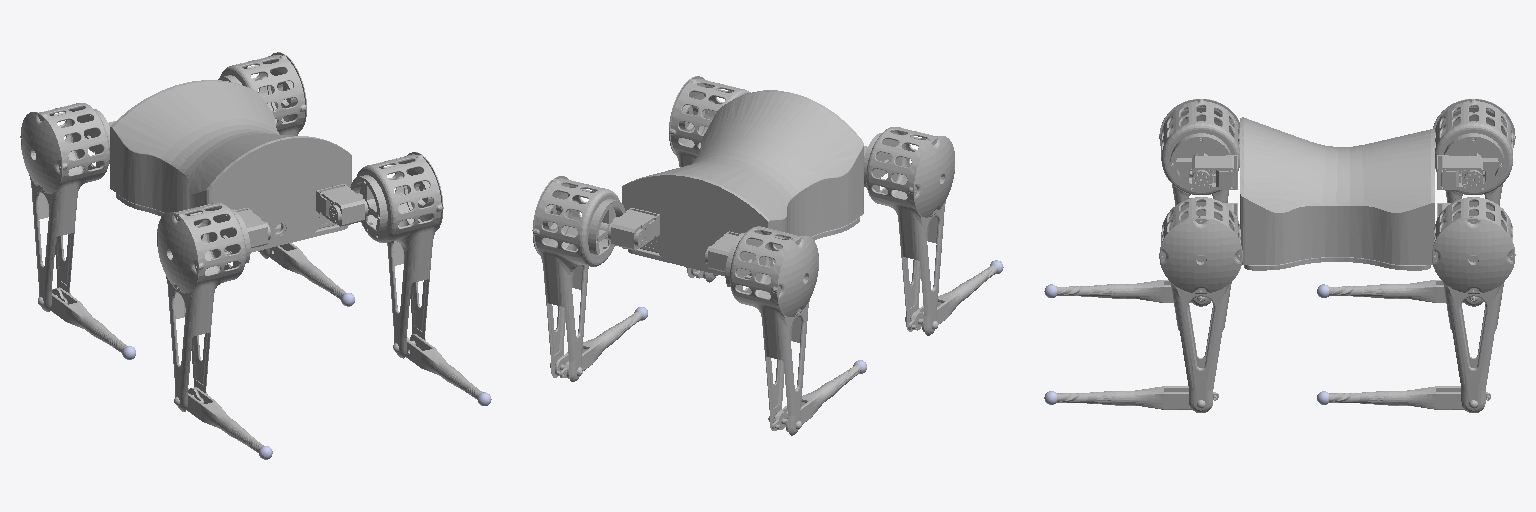
The robot description file, URDF, robot "Phantom":
<?xml version="1.0" encoding="utf-8"?>
<!-- This URDF was automatically created by SolidWorks to URDF Exporter! Originally created by [author] ([email redacted]) 
     Commit Version: 1.5.1-0-g916b5db  Build Version: 1.5.7152.31018
     For more information, please see http://wiki.ros.org/sw_urdf_exporter -->
<robot
  name="Phantom">
  <link
    name="base_link">
    <inertial>
      <origin
        xyz="0 0.024688 0"
        rpy="0 0 0" />
      <mass
        value="0.50654" />
      <inertia
        ixx="0.0017719"
        ixy="1.6105E-07"
        ixz="-8.064E-07"
        iyy="0.0025693"
        iyz="-4.4001E-05"
        izz="0.0011851" />
    </inertial>
    <visual>
      <origin
        xyz="0 0 0"
        rpy="0 0 0" />
      <geometry>
        <mesh
          filename="package://Phantom/meshes/base_link.STL" />
      </geometry>
      <material
        name="">
        <color
          rgba="0.75294 0.75294 0.75294 1" />
      </material>
    </visual>
    <collision>
      <origin
        xyz="0 0 0"
        rpy="0 0 0" />
      <geometry>
        <mesh
          filename="package://Phantom/meshes/base_link.STL" />
      </geometry>
    </collision>
  </link>
  <link
    name="FL_Motor_2">
    <inertial>
      <origin
        xyz="9.012E-07 0.025811 0.00021934"
        rpy="0 0 0" />
      <mass
        value="0.038306" />
      <inertia
        ixx="8.8892E-06"
        ixy="-8.9901E-11"
        ixz="2.9471E-11"
        iyy="5.0029E-06"
        iyz="-6.1827E-09"
        izz="7.6904E-06" />
    </inertial>
    <visual>
      <origin
        xyz="0 0 0"
        rpy="0 0 0" />
      <geometry>
        <mesh
          filename="package://Phantom/meshes/FL_Motor_2.STL" />
      </geometry>
      <material
        name="">
        <color
          rgba="0.75294 0.75294 0.75294 1" />
      </material>
    </visual>
    <collision>
      <origin
        xyz="0 0 0"
        rpy="0 0 0" />
      <geometry>
        <mesh
          filename="package://Phantom/meshes/FL_Motor_2.STL" />
      </geometry>
    </collision>
  </link>
  <joint
    name="FL_Motor_1"
    type="revolute">
    <origin
      xyz="0.06 -0.106 0.0396"
      rpy="3.14159 -1.5708 0" />
    <parent
      link="base_link" />
    <child
      link="FL_Motor_2" />
    <axis
      xyz="0 1 0" />
    <limit
      lower="-1.57"
      upper="1.57"
      effort="1.6"
      velocity="6.55" />
  </joint>
  <link
    name="FL_Upper_Leg">
    <inertial>
      <origin
        xyz="0.0524807185071959 -0.0149043297355802 0.0456863302589959"
        rpy="0 0 0" />
      <mass
        value="0.109481468712912" />
      <inertia
        ixx="0.000298068457356141"
        ixy="4.60867940853905E-05"
        ixz="-3.85596458595883E-06"
        iyy="0.000125014667087998"
        iyz="7.78430032608335E-05"
        izz="0.000265806457751462" />
    </inertial>
    <visual>
      <origin
        xyz="0 0 0"
        rpy="0 0 0" />
      <geometry>
        <mesh
          filename="package://Phantom/meshes/FL_Upper_Leg.STL" />
      </geometry>
      <material
        name="">
        <color
          rgba="0.752941176470588 0.752941176470588 0.752941176470588 1" />
      </material>
    </visual>
    <collision>
      <origin
        xyz="0 0 0"
        rpy="0 0 0" />
      <geometry>
        <mesh
          filename="package://Phantom/meshes/FL_Upper_Leg.STL" />
      </geometry>
    </collision>
  </link>
  <joint
    name="FL_Motor_2"
    type="revolute">
    <origin
      xyz="0 0.0396 0"
      rpy="0.40064 -0.90551 -1.6929" />
    <parent
      link="FL_Motor_2" />
    <child
      link="FL_Upper_Leg" />
    <axis
      xyz="0.78674 0.24074 0.5684" />
    <limit
      lower="-1.57"
      upper="1.57"
      effort="1.6"
      velocity="6.55" />
  </joint>
  <link
    name="FL_Lower_Leg">
    <inertial>
      <origin
        xyz="0.0261394692100626 -0.0573467070566691 0.0104588260023856"
        rpy="0 0 0" />
      <mass
        value="0.0232960712336725" />
      <inertia
        ixx="1.52233611319829E-05"
        ixy="1.16167374959236E-06"
        ixz="-2.08623801817281E-07"
        iyy="1.7871148944761E-06"
        iyz="2.42971146104759E-06"
        izz="1.50217948778946E-05" />
    </inertial>
    <visual>
      <origin
        xyz="0 0 0"
        rpy="0 0 0" />
      <geometry>
        <mesh
          filename="package://Phantom/meshes/FL_Lower_Leg.STL" />
      </geometry>
      <material
        name="">
        <color
          rgba="0.752941176470588 0.752941176470588 0.752941176470588 1" />
      </material>
    </visual>
    <collision>
      <origin
        xyz="0 0 0"
        rpy="0 0 0" />
      <geometry>
        <mesh
          filename="package://Phantom/meshes/FL_Lower_Leg.STL" />
      </geometry>
    </collision>
  </link>
  <joint
    name="FL_Motor_3"
    type="revolute">
    <origin
      xyz="0.054695 -0.15377 0.082305"
      rpy="-1.778 -0.67517 0.31496" />
    <parent
      link="FL_Upper_Leg" />
    <child
      link="FL_Lower_Leg" />
    <axis
      xyz="0.9974 0.072007 0" />
    <limit
      lower="-1"
      upper="1"
      effort="1.6"
      velocity="6.55" />
  </joint>
  <link
    name="FL_Foot">
    <inertial>
      <origin
        xyz="-1.43877699615436E-08 0.00686484405727211 -2.77555756156289E-17"
        rpy="0 0 0" />
      <mass
        value="0.00129233386377228" />
      <inertia
        ixx="2.80098247181732E-08"
        ixy="-8.19106279544417E-14"
        ixz="-2.31601914376966E-23"
        iyy="3.46211587846662E-08"
        iyz="6.90000589927413E-24"
        izz="2.80108403065588E-08" />
    </inertial>
    <visual>
      <origin
        xyz="0 0 0"
        rpy="0 0 0" />
      <geometry>
        <mesh
          filename="package://Phantom/meshes/FL_Foot.STL" />
      </geometry>
      <material
        name="">
        <color
          rgba="0.792156862745098 0.819607843137255 0.933333333333333 1" />
      </material>
    </visual>
    <collision>
      <origin
        xyz="0 0 0"
        rpy="0 0 0" />
      <geometry>
        <mesh
          filename="package://Phantom/meshes/FL_Foot.STL" />
      </geometry>
    </collision>
  </link>
  <joint
    name="FL_Foot_Joint"
    type="fixed">
    <origin
      xyz="0.033045 -0.15002 0.026918"
      rpy="0.42172 1.1307 -2.6839" />
    <parent
      link="FL_Lower_Leg" />
    <child
      link="FL_Foot" />
    <axis
      xyz="0 0 0" />
  </joint>
  <link
    name="FR_Motor_2">
    <inertial>
      <origin
        xyz="9.01196952313166E-07 0.0258106475147315 0.000219339271449077"
        rpy="0 0 0" />
      <mass
        value="0.0383058924829272" />
      <inertia
        ixx="8.8892013763251E-06"
        ixy="-8.9900828311236E-11"
        ixz="2.94712337558651E-11"
        iyy="5.00287526627567E-06"
        iyz="-6.18267002550534E-09"
        izz="7.69036723458956E-06" />
    </inertial>
    <visual>
      <origin
        xyz="0 0 0"
        rpy="0 0 0" />
      <geometry>
        <mesh
          filename="package://Phantom/meshes/FR_Motor_2.STL" />
      </geometry>
      <material
        name="">
        <color
          rgba="0.752941176470588 0.752941176470588 0.752941176470588 1" />
      </material>
    </visual>
    <collision>
      <origin
        xyz="0 0 0"
        rpy="0 0 0" />
      <geometry>
        <mesh
          filename="package://Phantom/meshes/FR_Motor_2.STL" />
      </geometry>
    </collision>
  </link>
  <joint
    name="FR_Motor_1"
    type="revolute">
    <origin
      xyz="-0.06 -0.106 0.0396"
      rpy="3.1416 1.5708 0" />
    <parent
      link="base_link" />
    <child
      link="FR_Motor_2" />
    <axis
      xyz="0 1 0" />
    <limit
      lower="-1.57"
      upper="1.57"
      effort="1.6"
      velocity="6.55" />
  </joint>
  <link
    name="FR_Upper_Leg">
    <inertial>
      <origin
        xyz="0.052480718507193 -0.0149043297355734 0.0456863302590011"
        rpy="0 0 0" />
      <mass
        value="0.109481468712911" />
      <inertia
        ixx="0.000298068457356142"
        ixy="4.60867940853844E-05"
        ixz="-3.8559645859582E-06"
        iyy="0.000125014667088"
        iyz="7.78430032608387E-05"
        izz="0.000265806457751455" />
    </inertial>
    <visual>
      <origin
        xyz="0 0 0"
        rpy="0 0 0" />
      <geometry>
        <mesh
          filename="package://Phantom/meshes/FR_Upper_Leg.STL" />
      </geometry>
      <material
        name="">
        <color
          rgba="0.752941176470588 0.752941176470588 0.752941176470588 1" />
      </material>
    </visual>
    <collision>
      <origin
        xyz="0 0 0"
        rpy="0 0 0" />
      <geometry>
        <mesh
          filename="package://Phantom/meshes/FR_Upper_Leg.STL" />
      </geometry>
    </collision>
  </link>
  <joint
    name="FR_Motor_2"
    type="revolute">
    <origin
      xyz="0 0.0396 0"
      rpy="0.40064 -0.90551 1.4487" />
    <parent
      link="FR_Motor_2" />
    <child
      link="FR_Upper_Leg" />
    <axis
      xyz="0.78674 0.24074 0.5684" />
    <limit
      lower="-1.57"
      upper="1.57"
      effort="1.6"
      velocity="6.55" />
  </joint>
  <link
    name="FR_Lower_Leg">
    <inertial>
      <origin
        xyz="0.0261394692100617 -0.0573467070566894 0.0104588260024016"
        rpy="0 0 0" />
      <mass
        value="0.0232960712337112" />
      <inertia
        ixx="1.52233611319807E-05"
        ixy="1.1616737495922E-06"
        ixz="-2.08623801817473E-07"
        iyy="1.78711489447468E-06"
        iyz="2.42971146104814E-06"
        izz="1.50217948778951E-05" />
    </inertial>
    <visual>
      <origin
        xyz="0 0 0"
        rpy="0 0 0" />
      <geometry>
        <mesh
          filename="package://Phantom/meshes/FR_Lower_Leg.STL" />
      </geometry>
      <material
        name="">
        <color
          rgba="0.752941176470588 0.752941176470588 0.752941176470588 1" />
      </material>
    </visual>
    <collision>
      <origin
        xyz="0 0 0"
        rpy="0 0 0" />
      <geometry>
        <mesh
          filename="package://Phantom/meshes/FR_Lower_Leg.STL" />
      </geometry>
    </collision>
  </link>
  <joint
    name="FR_Motor_3"
    type="revolute">
    <origin
      xyz="0.054695 -0.15377 0.082305"
      rpy="1.3831 -0.53381 0.28062" />
    <parent
      link="FR_Upper_Leg" />
    <child
      link="FR_Lower_Leg" />
    <axis
      xyz="0.9974 0.072007 0" />
    <limit
      lower="-1"
      upper="1"
      effort="1.6"
      velocity="6.55" />
  </joint>
  <link
    name="FR_Foot">
    <inertial>
      <origin
        xyz="-1.43877682406979E-08 0.00686484405727189 -2.91433543964104E-15"
        rpy="0 0 0" />
      <mass
        value="0.00129233386377229" />
      <inertia
        ixx="2.80098247181733E-08"
        ixy="-8.1910627847285E-14"
        ixz="2.27474668452083E-24"
        iyy="3.46211587846663E-08"
        iyz="8.41167116402596E-24"
        izz="2.80108403065589E-08" />
    </inertial>
    <visual>
      <origin
        xyz="0 0 0"
        rpy="0 0 0" />
      <geometry>
        <mesh
          filename="package://Phantom/meshes/FR_Foot.STL" />
      </geometry>
      <material
        name="">
        <color
          rgba="0.792156862745098 0.819607843137255 0.933333333333333 1" />
      </material>
    </visual>
    <collision>
      <origin
        xyz="0 0 0"
        rpy="0 0 0" />
      <geometry>
        <mesh
          filename="package://Phantom/meshes/FR_Foot.STL" />
      </geometry>
    </collision>
  </link>
  <joint
    name="FR_Foot_Joint"
    type="fixed">
    <origin
      xyz="0.033045 -0.15002 0.026918"
      rpy="2.9657 0.081336 0.057634" />
    <parent
      link="FR_Lower_Leg" />
    <child
      link="FR_Foot" />
    <axis
      xyz="0 0 0" />
  </joint>
  <link
    name="BL_Motor_2">
    <inertial>
      <origin
        xyz="9.01196952167449E-07 0.0258106475147312 0.000219339271229357"
        rpy="0 0 0" />
      <mass
        value="0.0383058924829273" />
      <inertia
        ixx="8.88920137632515E-06"
        ixy="-8.99008282886945E-11"
        ixz="2.94712337531726E-11"
        iyy="5.00287526627569E-06"
        iyz="-6.1826700255098E-09"
        izz="7.69036723458962E-06" />
    </inertial>
    <visual>
      <origin
        xyz="0 0 0"
        rpy="0 0 0" />
      <geometry>
        <mesh
          filename="package://Phantom/meshes/BL_Motor_2.STL" />
      </geometry>
      <material
        name="">
        <color
          rgba="0.752941176470588 0.752941176470588 0.752941176470588 1" />
      </material>
    </visual>
    <collision>
      <origin
        xyz="0 0 0"
        rpy="0 0 0" />
      <geometry>
        <mesh
          filename="package://Phantom/meshes/BL_Motor_2.STL" />
      </geometry>
    </collision>
  </link>
  <joint
    name="BL_Motor_1"
    type="revolute">
    <origin
      xyz="0.06 0.106 0.0396"
      rpy="0 1.5708 0" />
    <parent
      link="base_link" />
    <child
      link="BL_Motor_2" />
    <axis
      xyz="0 1 0" />
    <limit
      lower="-1.57"
      upper="1.57"
      effort="1.6"
      velocity="6.55" />
  </joint>
  <link
    name="BL_Upper_Leg">
    <inertial>
      <origin
        xyz="0.0524807185070219 -0.014904329735632 0.0456863302588721"
        rpy="0 0 0" />
      <mass
        value="0.109481468712912" />
      <inertia
        ixx="0.000298068457356145"
        ixy="4.60867940853866E-05"
        ixz="-3.8559645859584E-06"
        iyy="0.000125014667088"
        iyz="7.78430032608382E-05"
        izz="0.000265806457751459" />
    </inertial>
    <visual>
      <origin
        xyz="0 0 0"
        rpy="0 0 0" />
      <geometry>
        <mesh
          filename="package://Phantom/meshes/BL_Upper_Leg.STL" />
      </geometry>
      <material
        name="">
        <color
          rgba="0.752941176470588 0.752941176470588 0.752941176470588 1" />
      </material>
    </visual>
    <collision>
      <origin
        xyz="0 0 0"
        rpy="0 0 0" />
      <geometry>
        <mesh
          filename="package://Phantom/meshes/BL_Upper_Leg.STL" />
      </geometry>
    </collision>
  </link>
  <joint
    name="BL_Motor_2"
    type="revolute">
    <origin
      xyz="0 0.0396 0"
      rpy="0.40064 -0.90551 1.4487" />
    <parent
      link="BL_Motor_2" />
    <child
      link="BL_Upper_Leg" />
    <axis
      xyz="0.78674 0.24074 0.5684" />
    <limit
      lower="-1.57"
      upper="1.57"
      effort="1.6"
      velocity="6.55" />
  </joint>
  <link
    name="BL_Lower_Leg">
    <inertial>
      <origin
        xyz="0.0261394692100616 -0.0573467070566771 0.010458826002389"
        rpy="0 0 0" />
      <mass
        value="0.0232960712336856" />
      <inertia
        ixx="1.52233611319842E-05"
        ixy="1.16167374959205E-06"
        ixz="-2.08623801817332E-07"
        iyy="1.78711489447804E-06"
        iyz="2.42971146104767E-06"
        izz="1.50217948778954E-05" />
    </inertial>
    <visual>
      <origin
        xyz="0 0 0"
        rpy="0 0 0" />
      <geometry>
        <mesh
          filename="package://Phantom/meshes/BL_Lower_Leg.STL" />
      </geometry>
      <material
        name="">
        <color
          rgba="0.752941176470588 0.752941176470588 0.752941176470588 1" />
      </material>
    </visual>
    <collision>
      <origin
        xyz="0 0 0"
        rpy="0 0 0" />
      <geometry>
        <mesh
          filename="package://Phantom/meshes/BL_Lower_Leg.STL" />
      </geometry>
    </collision>
  </link>
  <joint
    name="BL_Motor_3"
    type="revolute">
    <origin
      xyz="0.054695 -0.15377 0.082305"
      rpy="-1.778 -0.67517 0.31496" />
    <parent
      link="BL_Upper_Leg" />
    <child
      link="BL_Lower_Leg" />
    <axis
      xyz="0.9974 0.072007 0" />
    <limit
      lower="-1"
      upper="1"
      effort="1.6"
      velocity="6.55" />
  </joint>
  <link
    name="BL_Foot">
    <inertial>
      <origin
        xyz="-1.43877698921546E-08 0.00686484405727179 2.77555756156289E-17"
        rpy="0 0 0" />
      <mass
        value="0.00129233386377229" />
      <inertia
        ixx="2.80098247181732E-08"
        ixy="-8.19106278465532E-14"
        ixz="-4.13579763320867E-24"
        iyy="3.46211587846662E-08"
        iyz="-4.48891407388988E-24"
        izz="2.80108403065589E-08" />
    </inertial>
    <visual>
      <origin
        xyz="0 0 0"
        rpy="0 0 0" />
      <geometry>
        <mesh
          filename="package://Phantom/meshes/BL_Foot.STL" />
      </geometry>
      <material
        name="">
        <color
          rgba="0.792156862745098 0.819607843137255 0.933333333333333 1" />
      </material>
    </visual>
    <collision>
      <origin
        xyz="0 0 0"
        rpy="0 0 0" />
      <geometry>
        <mesh
          filename="package://Phantom/meshes/BL_Foot.STL" />
      </geometry>
    </collision>
  </link>
  <joint
    name="BL_Foot_Joint"
    type="fixed">
    <origin
      xyz="0.033045 -0.15002 0.026918"
      rpy="0.44233 1.1512 -2.6613" />
    <parent
      link="BL_Lower_Leg" />
    <child
      link="BL_Foot" />
    <axis
      xyz="0 1 0" />
  </joint>
  <link
    name="BR_Motor_2">
    <inertial>
      <origin
        xyz="9.01196953048689E-07 0.0258106475147303 0.000219339271668104"
        rpy="0 0 0" />
      <mass
        value="0.0383058924829252" />
      <inertia
        ixx="8.88920137632514E-06"
        ixy="-8.9900828336558E-11"
        ixz="2.94712337510042E-11"
        iyy="5.00287526627568E-06"
        iyz="-6.18267002550552E-09"
        izz="7.69036723458959E-06" />
    </inertial>
    <visual>
      <origin
        xyz="0 0 0"
        rpy="0 0 0" />
      <geometry>
        <mesh
          filename="package://Phantom/meshes/BR_Motor_2.STL" />
      </geometry>
      <material
        name="">
        <color
          rgba="0.752941176470588 0.752941176470588 0.752941176470588 1" />
      </material>
    </visual>
    <collision>
      <origin
        xyz="0 0 0"
        rpy="0 0 0" />
      <geometry>
        <mesh
          filename="package://Phantom/meshes/BR_Motor_2.STL" />
      </geometry>
    </collision>
  </link>
  <joint
    name="BR_Motor_1"
    type="revolute">
    <origin
      xyz="-0.06 0.106 0.0396"
      rpy="0 -1.5708 0" />
    <parent
      link="base_link" />
    <child
      link="BR_Motor_2" />
    <axis
      xyz="0 1 0" />
    <limit
      lower="-1.57"
      upper="1.57"
      effort="1.6"
      velocity="6.55" />
  </joint>
  <link
    name="BR_Upper_Leg">
    <inertial>
      <origin
        xyz="0.0524807185073673 -0.0149043297355264 0.0456863302591222"
        rpy="0 0 0" />
      <mass
        value="0.109481468712911" />
      <inertia
        ixx="0.00029806845735614"
        ixy="4.60867940853841E-05"
        ixz="-3.85596458595776E-06"
        iyy="0.000125014667087999"
        iyz="7.78430032608385E-05"
        izz="0.000265806457751453" />
    </inertial>
    <visual>
      <origin
        xyz="0 0 0"
        rpy="0 0 0" />
      <geometry>
        <mesh
          filename="package://Phantom/meshes/BR_Upper_Leg.STL" />
      </geometry>
      <material
        name="">
        <color
          rgba="0.752941176470588 0.752941176470588 0.752941176470588 1" />
      </material>
    </visual>
    <collision>
      <origin
        xyz="0 0 0"
        rpy="0 0 0" />
      <geometry>
        <mesh
          filename="package://Phantom/meshes/BR_Upper_Leg.STL" />
      </geometry>
    </collision>
  </link>
  <joint
    name="BR_Motor_2"
    type="revolute">
    <origin
      xyz="0 0.0396 0"
      rpy="0.40064 -0.90551 -1.6929" />
    <parent
      link="BR_Motor_2" />
    <child
      link="BR_Upper_Leg" />
    <axis
      xyz="0.78674 0.24074 0.5684" />
    <limit
      lower="-1.57"
      upper="1.57"
      effort="1.6"
      velocity="6.55" />
  </joint>
  <link
    name="BR_Lower_Leg">
    <inertial>
      <origin
        xyz="0.0261394692100596 -0.0573467070566696 0.0104588260023861"
        rpy="0 0 0" />
      <mass
        value="0.0232960712336743" />
      <inertia
        ixx="1.52233611319828E-05"
        ixy="1.1616737495921E-06"
        ixz="-2.08623801817723E-07"
        iyy="1.7871148944754E-06"
        iyz="2.42971146104731E-06"
        izz="1.50217948778944E-05" />
    </inertial>
    <visual>
      <origin
        xyz="0 0 0"
        rpy="0 0 0" />
      <geometry>
        <mesh
          filename="package://Phantom/meshes/BR_Lower_Leg.STL" />
      </geometry>
      <material
        name="">
        <color
          rgba="0.752941176470588 0.752941176470588 0.752941176470588 1" />
      </material>
    </visual>
    <collision>
      <origin
        xyz="0 0 0"
        rpy="0 0 0" />
      <geometry>
        <mesh
          filename="package://Phantom/meshes/BR_Lower_Leg.STL" />
      </geometry>
    </collision>
  </link>
  <joint
    name="BR_Motor_3"
    type="revolute">
    <origin
      xyz="0.054695 -0.15377 0.082305"
      rpy="1.3831 -0.53381 0.28062" />
    <parent
      link="BR_Upper_Leg" />
    <child
      link="BR_Lower_Leg" />
    <axis
      xyz="0.9974 0.072007 0" />
    <limit
      lower="-1"
      upper="1"
      effort="1.6"
      velocity="6.55" />
  </joint>
  <link
    name="BR_Foot">
    <inertial>
      <origin
        xyz="-1.43877705721662E-08 0.00686484405727178 4.44089209850063E-16"
        rpy="0 0 0" />
      <mass
        value="0.00129233386377228" />
      <inertia
        ixx="2.80098247181731E-08"
        ixy="-8.19106279262494E-14"
        ixz="-2.89444080637953E-24"
        iyy="3.46211587846661E-08"
        iyz="6.23490702340783E-23"
        izz="2.80108403065587E-08" />
    </inertial>
    <visual>
      <origin
        xyz="0 0 0"
        rpy="0 0 0" />
      <geometry>
        <mesh
          filename="package://Phantom/meshes/BR_Foot.STL" />
      </geometry>
      <material
        name="">
        <color
          rgba="0.792156862745098 0.819607843137255 0.933333333333333 1" />
      </material>
    </visual>
    <collision>
      <origin
        xyz="0 0 0"
        rpy="0 0 0" />
      <geometry>
        <mesh
          filename="package://Phantom/meshes/BR_Foot.STL" />
      </geometry>
    </collision>
  </link>
  <joint
    name="BR_Foot_Joint"
    type="fixed">
    <origin
      xyz="0.033045 -0.15002 0.026918"
      rpy="0.8796 -1.3425 2.347" />
    <parent
      link="BR_Lower_Leg" />
    <child
      link="BR_Foot" />
    <axis
      xyz="0 1 0" />
  </joint>
</robot>

--- Render facts (derived) ---
Views: 3 orthographic renders of the robot side by side, from view 1: azimuth 30°, elevation 25°; view 2: azimuth 150°, elevation 25°; view 3: azimuth 270°, elevation 25°.
Robot: Phantom — 17 links, 16 joints (12 revolute, 4 fixed); root link base_link; default pose: all joints at 0.
Links seen in each view (by area): view 1: base_link, FR_Upper_Leg, BR_Upper_Leg, FL_Upper_Leg, BL_Upper_Leg, FL_Motor_2, FR_Lower_Leg, BR_Lower_Leg, FL_Lower_Leg, BL_Lower_Leg, FR_Motor_2; view 2: base_link, BR_Upper_Leg, FR_Upper_Leg, BL_Upper_Leg, FL_Upper_Leg, BL_Motor_2, BL_Lower_Leg, FR_Lower_Leg, BR_Lower_Leg, BR_Motor_2; view 3: base_link, BL_Upper_Leg, FL_Upper_Leg, FR_Upper_Leg, BR_Upper_Leg, FL_Lower_Leg, BL_Lower_Leg, BR_Lower_Leg, FR_Lower_Leg, FR_Motor_2, BR_Motor_2.
Link boxes in pixels (x1,y1,x2,y2): base_link: (110,80,351,254); FR_Upper_Leg: (157,202,250,411); BR_Upper_Leg: (20,103,109,311); FL_Upper_Leg: (350,152,443,358); BL_Upper_Leg: (218,52,306,258); FL_Motor_2: (316,184,367,226); FR_Lower_Leg: (187,387,263,452); BR_Lower_Leg: (50,287,126,352); FL_Lower_Leg: (406,334,482,398); BL_Lower_Leg: (270,243,345,299); FR_Motor_2: (235,208,270,247); base_link: (622,90,863,278); BR_Upper_Leg: (725,226,818,435); FR_Upper_Leg: (864,127,954,335); BL_Upper_Leg: (532,176,625,381); FL_Upper_Leg: (669,76,750,282); BL_Motor_2: (607,208,659,250); BL_Lower_Leg: (555,311,642,378); FR_Lower_Leg: (908,265,997,331); BR_Lower_Leg: (772,365,861,431); BR_Motor_2: (705,231,740,271); base_link: (1240,117,1434,270); BL_Upper_Leg: (1432,197,1515,412); FL_Upper_Leg: (1159,197,1242,412); FR_Upper_Leg: (1159,99,1239,306); BR_Upper_Leg: (1433,99,1515,306); FL_Lower_Leg: (1057,386,1218,409); BL_Lower_Leg: (1329,386,1490,409); BR_Lower_Leg: (1329,280,1463,302); FR_Lower_Leg: (1057,280,1191,302); FR_Motor_2: (1192,155,1237,189); BR_Motor_2: (1437,155,1482,189).
Size in the robot's own frame: 0.3216 by 0.5034 by 0.2683 metres.
Meshes: 17 distinct files referenced, 17 mesh visuals loaded (17 binary STL).